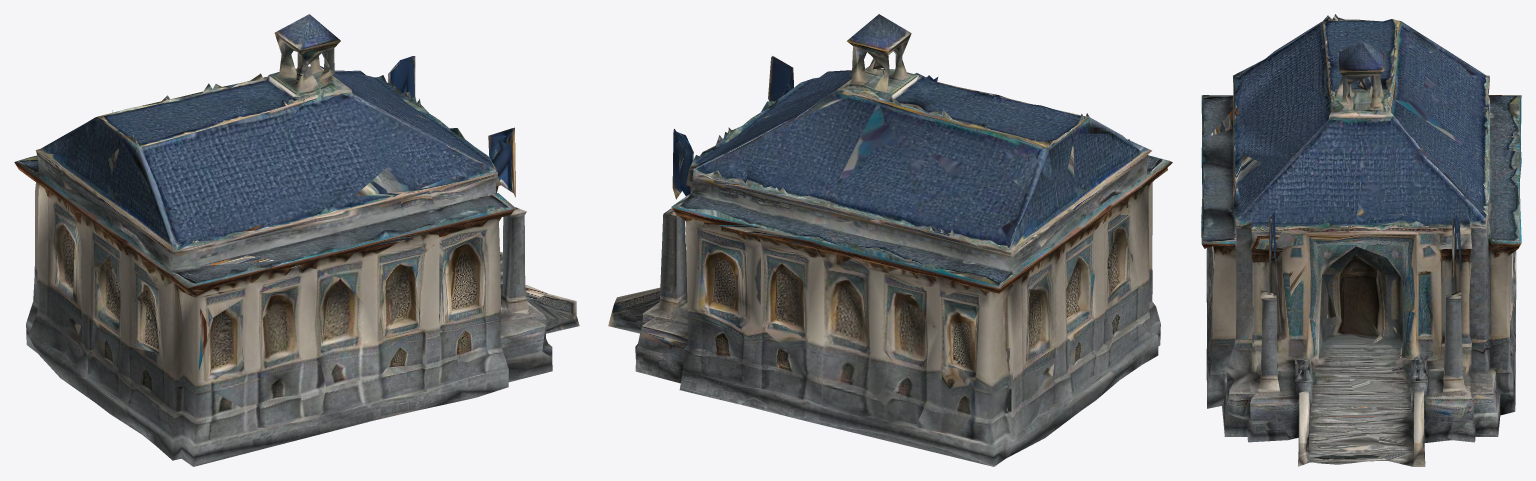
Rendered from civic_hall_0.glb.
3 views of the same model, side by side, from view 1: azimuth 30°, elevation 25°; view 2: azimuth 150°, elevation 25°; view 3: azimuth 270°, elevation 25° (orthographic). The views are drawn at different scales.
Visible parts, largest first — view 1: tripo_node_cd58b98e-c6fd-408e-b47b-4feebae886b4; view 2: tripo_node_cd58b98e-c6fd-408e-b47b-4feebae886b4; view 3: tripo_node_cd58b98e-c6fd-408e-b47b-4feebae886b4.
Boxes of the visible parts, x1,y1,x2,y2 form: tripo_node_cd58b98e-c6fd-408e-b47b-4feebae886b4: [14, 14, 579, 466]; tripo_node_cd58b98e-c6fd-408e-b47b-4feebae886b4: [608, 14, 1172, 466]; tripo_node_cd58b98e-c6fd-408e-b47b-4feebae886b4: [1201, 14, 1521, 466].
Size of the model in its own units: 0.9778 by 0.7234 by 0.6581.
Materials: 1 (1 with a texture image).
